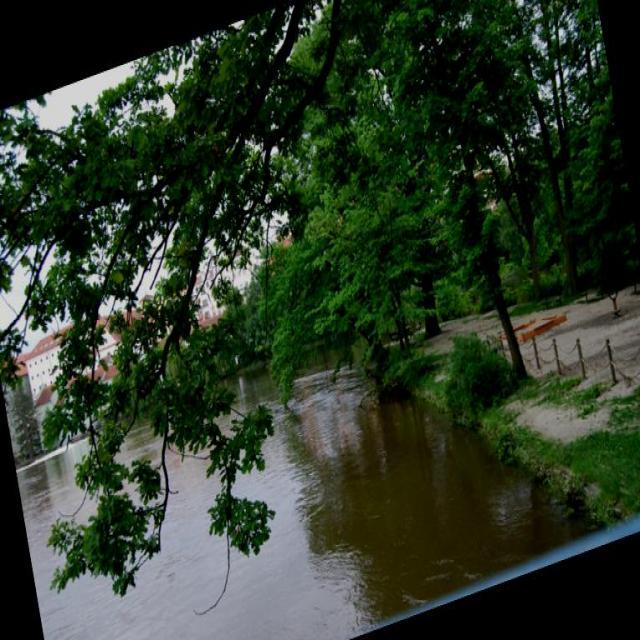flood: (14, 264, 588, 639)
